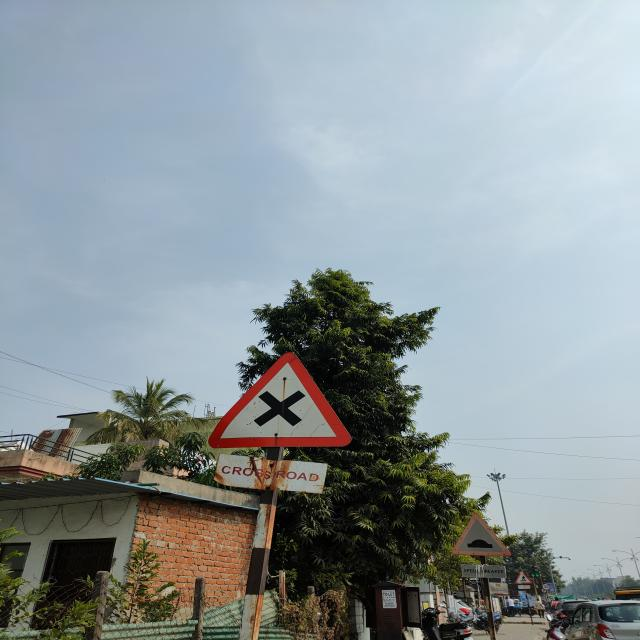cross_road: (205, 348, 358, 452)
